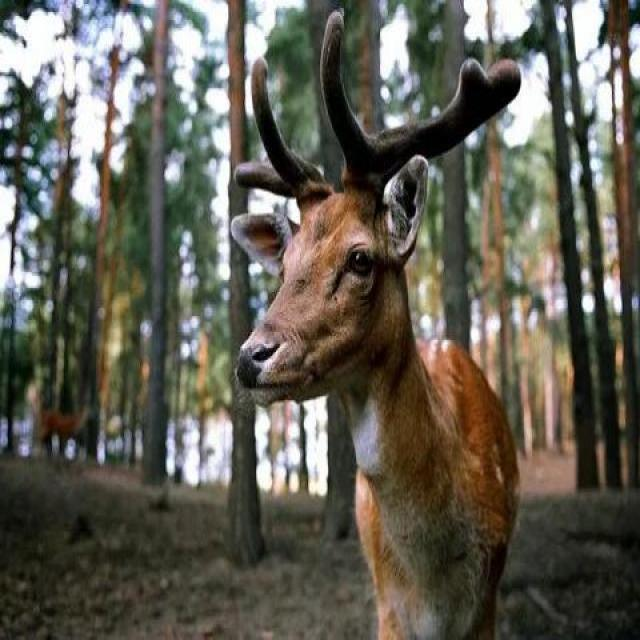deer: (233, 117, 512, 566)
